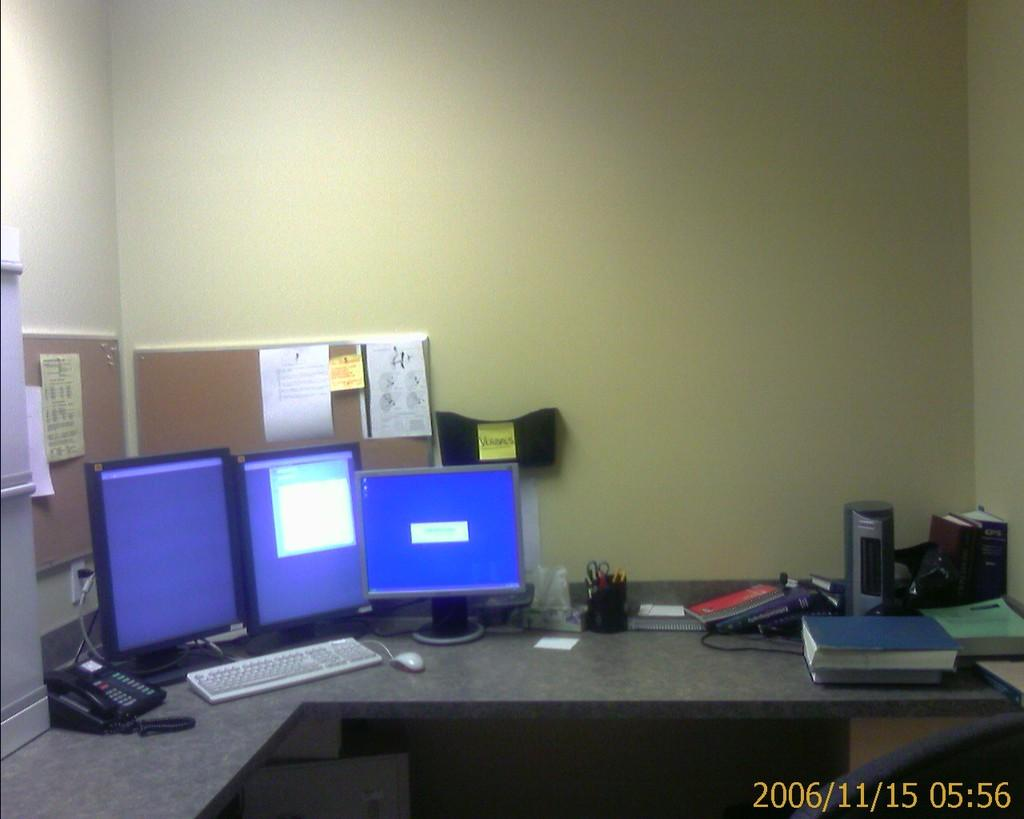Computer-monitor: (78, 433, 249, 698), (344, 454, 542, 647), (230, 437, 390, 664)
